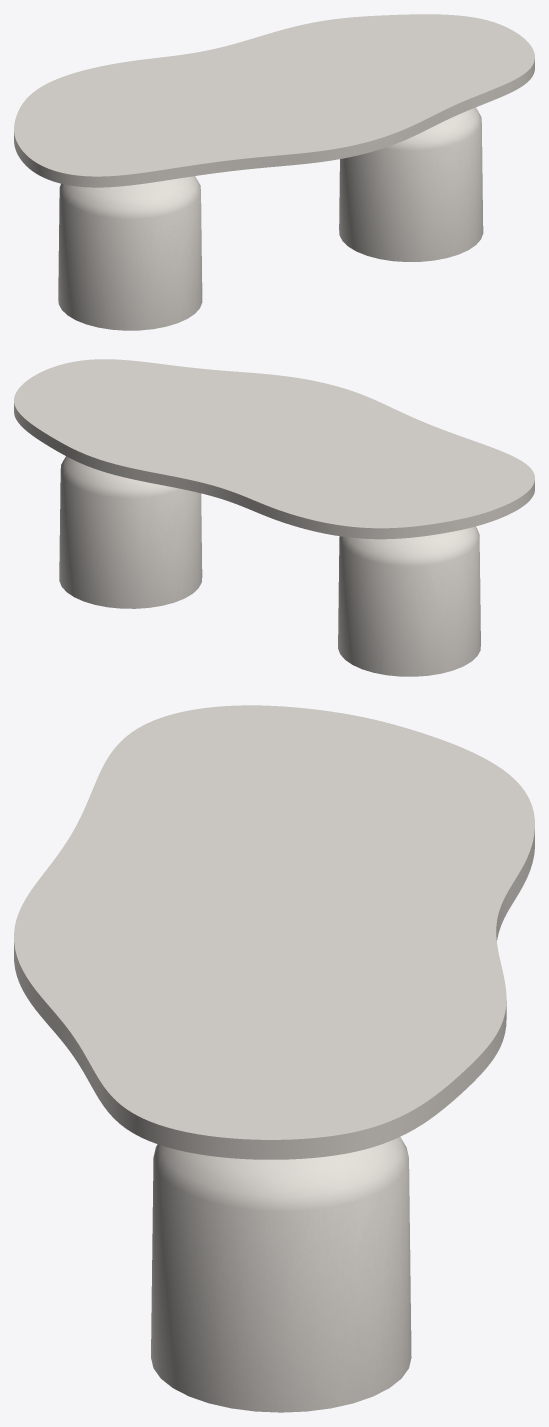
The model's file is pearlwhite_toplast_standard_tornado.glb.
3 renders of one model, top to bottom at view 1: azimuth 30°, elevation 25°; view 2: azimuth 150°, elevation 25°; view 3: azimuth 270°, elevation 25°, orthographic. The views are drawn at different scales.
Parts seen in each view (by area): view 1: standard_toplast, tornado; view 2: standard_toplast, tornado; view 3: standard_toplast, tornado.
Boxes of the visible parts, left/top/right/bottom form: standard_toplast: left=14, top=14, right=534, bottom=187; tornado: left=58, top=107, right=483, bottom=330; standard_toplast: left=14, top=359, right=534, bottom=539; tornado: left=59, top=456, right=480, bottom=676; standard_toplast: left=14, top=705, right=534, bottom=1159; tornado: left=151, top=1137, right=411, bottom=1412.
Bounding box in the file's own units: 7.5 × 2.5 × 3.8.
1 material, 1 textured.
